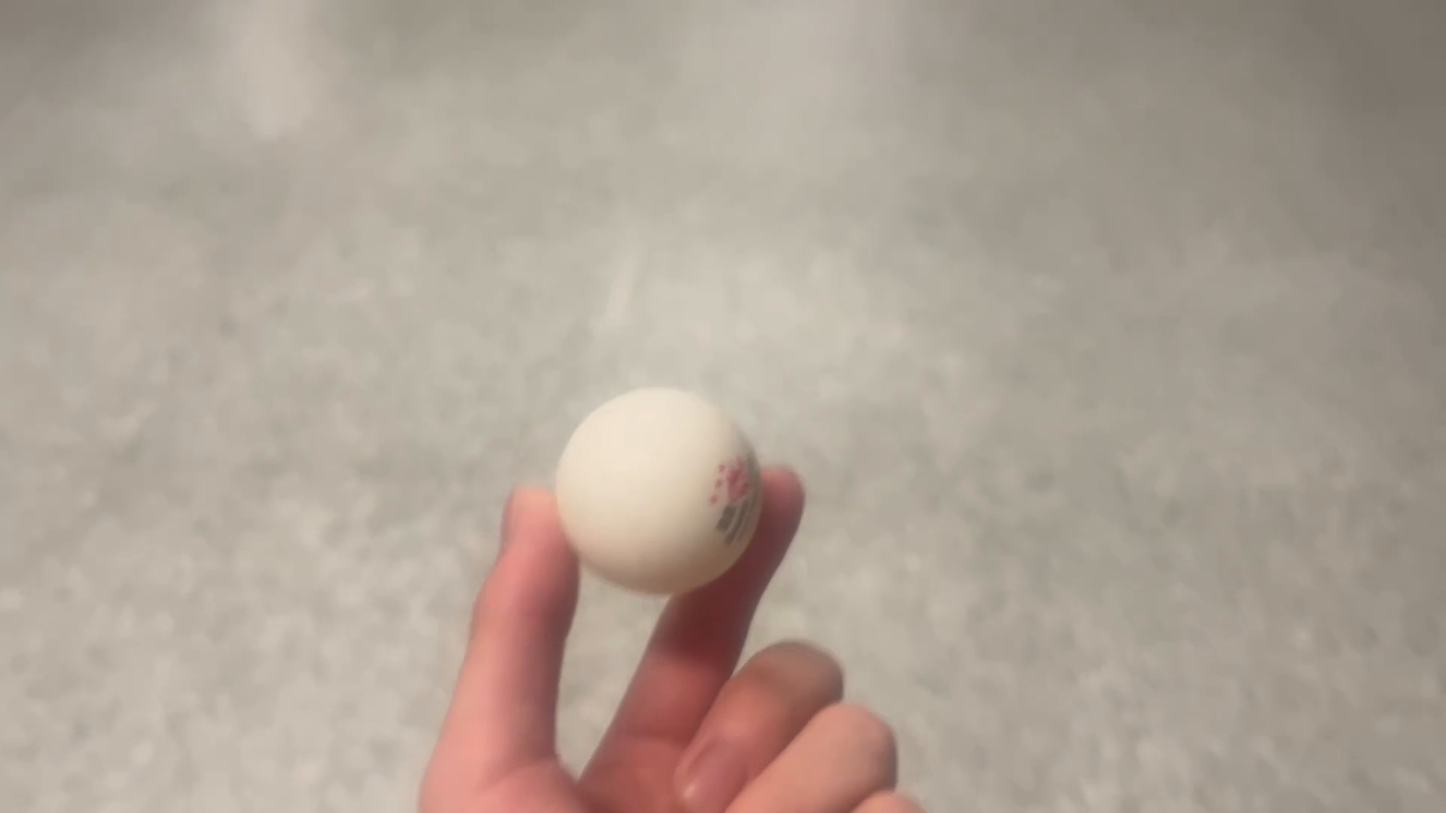Ball: (549, 387, 761, 589)
